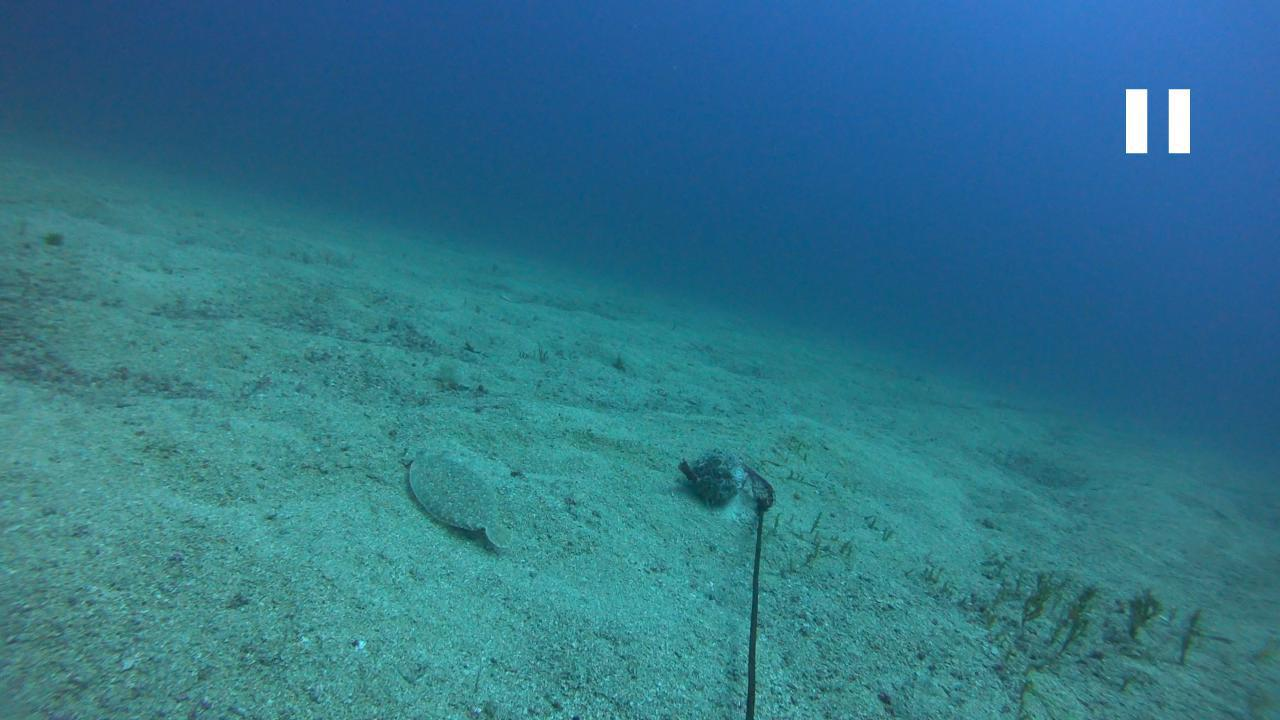bothus: (401, 448, 520, 554)
